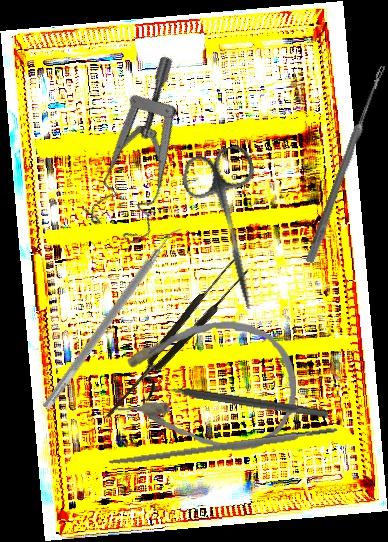Cannula: (110, 314, 300, 455)
Fixation Ring: (140, 374, 331, 429)
Iris Scissors: (177, 142, 287, 318)
Scalpel Handle: (108, 425, 339, 469)
Spatula Surgical: (41, 221, 187, 416)
Speculum: (51, 51, 245, 256)
Surgical Spoon: (305, 63, 387, 265)
Tissue Forceps: (95, 256, 252, 426)
